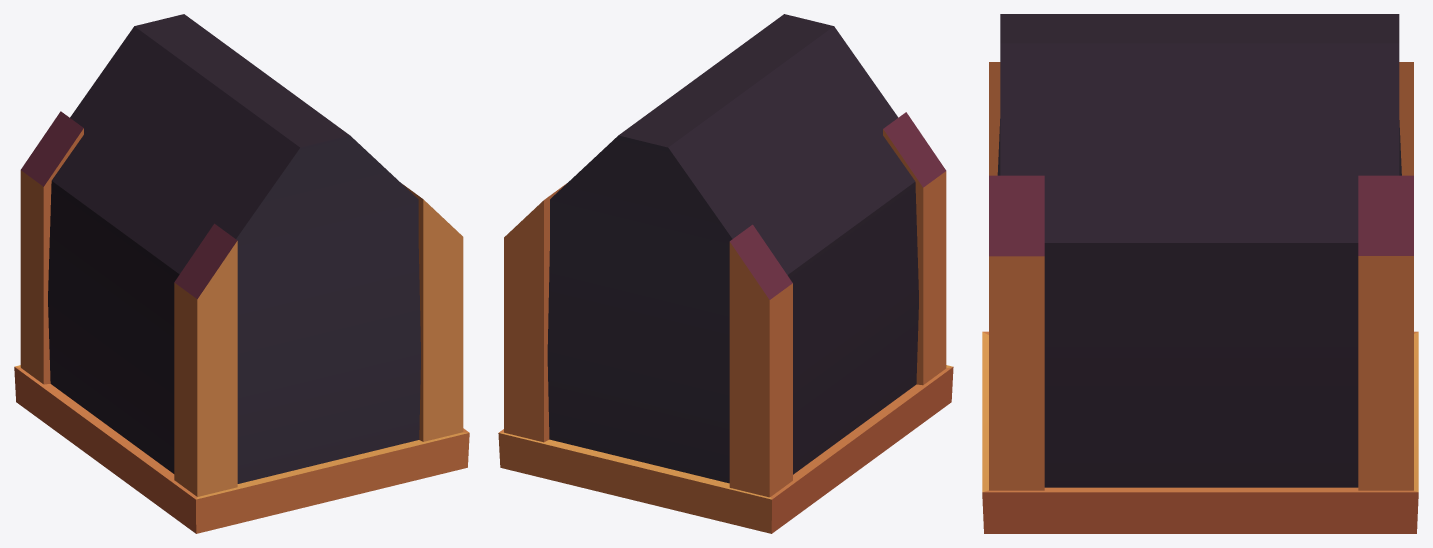
File: House02_Black_Wood.glb
3 renders of one model, left to right at view 1: azimuth 30°, elevation 25°; view 2: azimuth 150°, elevation 25°; view 3: azimuth 270°, elevation 25°, orthographic. The views are drawn at different scales.
Visible parts, largest first — view 1: House02_Black_Wood; view 2: House02_Black_Wood; view 3: House02_Black_Wood.
Boxes of the visible parts, x1,y1,x2,y2 form: House02_Black_Wood: [14, 14, 469, 533]; House02_Black_Wood: [498, 14, 953, 533]; House02_Black_Wood: [982, 14, 1418, 533].
Size of the model in its own units: 2.04 by 2.52 by 2.34.
Materials: 1 (1 with a texture image).
